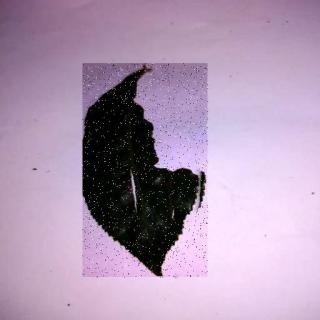Bird Eye Spot: (84, 65, 210, 279)
